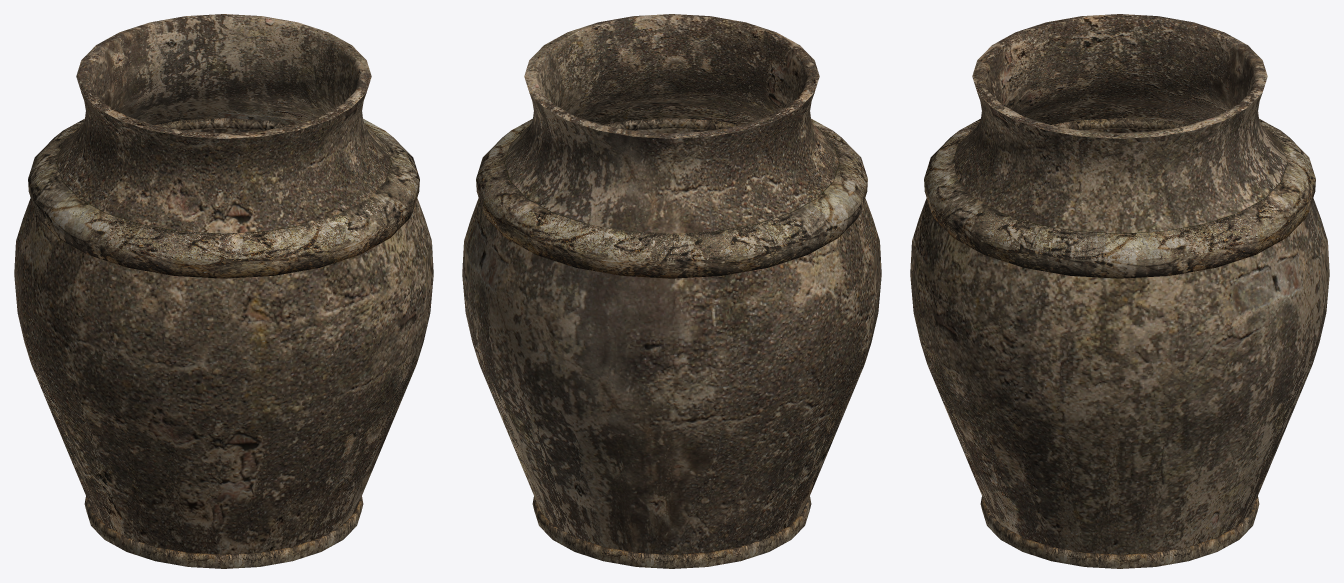
The model's file is materials_5_pot_5.fbx.
The picture shows the model from 3 angles, left to right: view 1: azimuth 30°, elevation 25°; view 2: azimuth 150°, elevation 25°; view 3: azimuth 270°, elevation 25°; orthographic projection.
Parts seen in each view (by area): view 1: materials_5_pot_5; view 2: materials_5_pot_5; view 3: materials_5_pot_5.
Part boxes in pixels (x1=…): materials_5_pot_5: x1=14, y1=14, x2=433, y2=568; materials_5_pot_5: x1=462, y1=14, x2=881, y2=568; materials_5_pot_5: x1=910, y1=14, x2=1329, y2=568.
Bounding box in the file's own units: 46.09 × 52.85 × 46.09.
